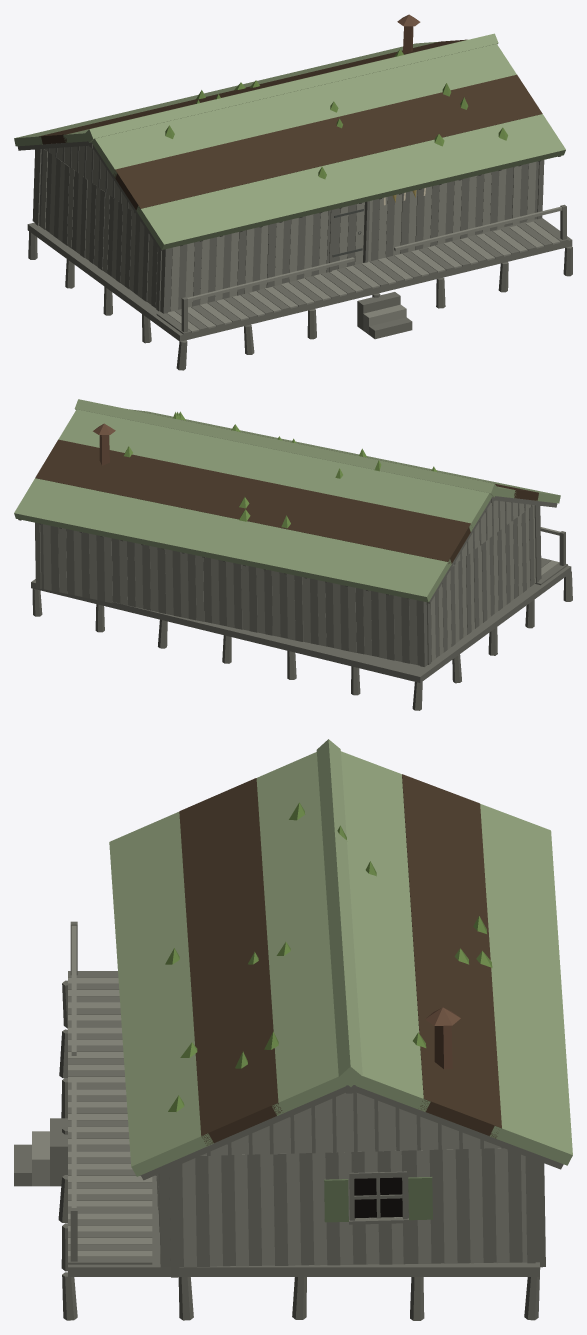
File: greyfen-stilt-hut.glb
3 views of the same model, one above another, from view 1: azimuth 30°, elevation 25°; view 2: azimuth 150°, elevation 25°; view 3: azimuth 270°, elevation 25° (orthographic). The views are drawn at different scales.
Visible parts, largest first — view 1: Body_Moss, Body_WoodDark, Body_Wood, Body_Peat, Body_Herb, Body_Rust; view 2: Body_Moss, Body_WoodDark, Body_Wood, Body_Peat, Body_Herb, Body_Rust; view 3: Body_Moss, Body_WoodDark, Body_Peat, Body_Wood, Body_Paint, Body_Herb, Body_Dark, Body_Rust.
Boxes of the visible parts, x1,y1,x2,y2 form: Body_Moss: (14, 33, 565, 249); Body_WoodDark: (17, 141, 572, 370); Body_Wood: (40, 145, 562, 334); Body_Peat: (39, 39, 542, 210); Body_Herb: (165, 49, 507, 179); Body_Rust: (397, 14, 420, 53); Body_Moss: (14, 399, 560, 602); Body_WoodDark: (18, 496, 572, 710); Body_Wood: (43, 500, 560, 664); Body_Peat: (35, 439, 538, 563); Body_Herb: (123, 411, 436, 528); Body_Rust: (93, 423, 115, 465); Body_Moss: (109, 739, 572, 1176); Body_WoodDark: (14, 921, 563, 1320); Body_Peat: (179, 774, 501, 1145); Body_Wood: (32, 925, 527, 1267); Body_Paint: (324, 1177, 432, 1222); Body_Herb: (165, 802, 492, 1111); Body_Dark: (354, 1177, 402, 1218); Body_Rust: (425, 1007, 460, 1069).
Size of the model in its own units: 12 by 5 by 9.
